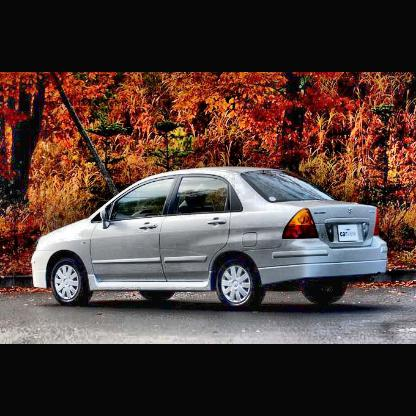Suzuki Aerio Sedan 2007: (32, 167, 391, 311)
